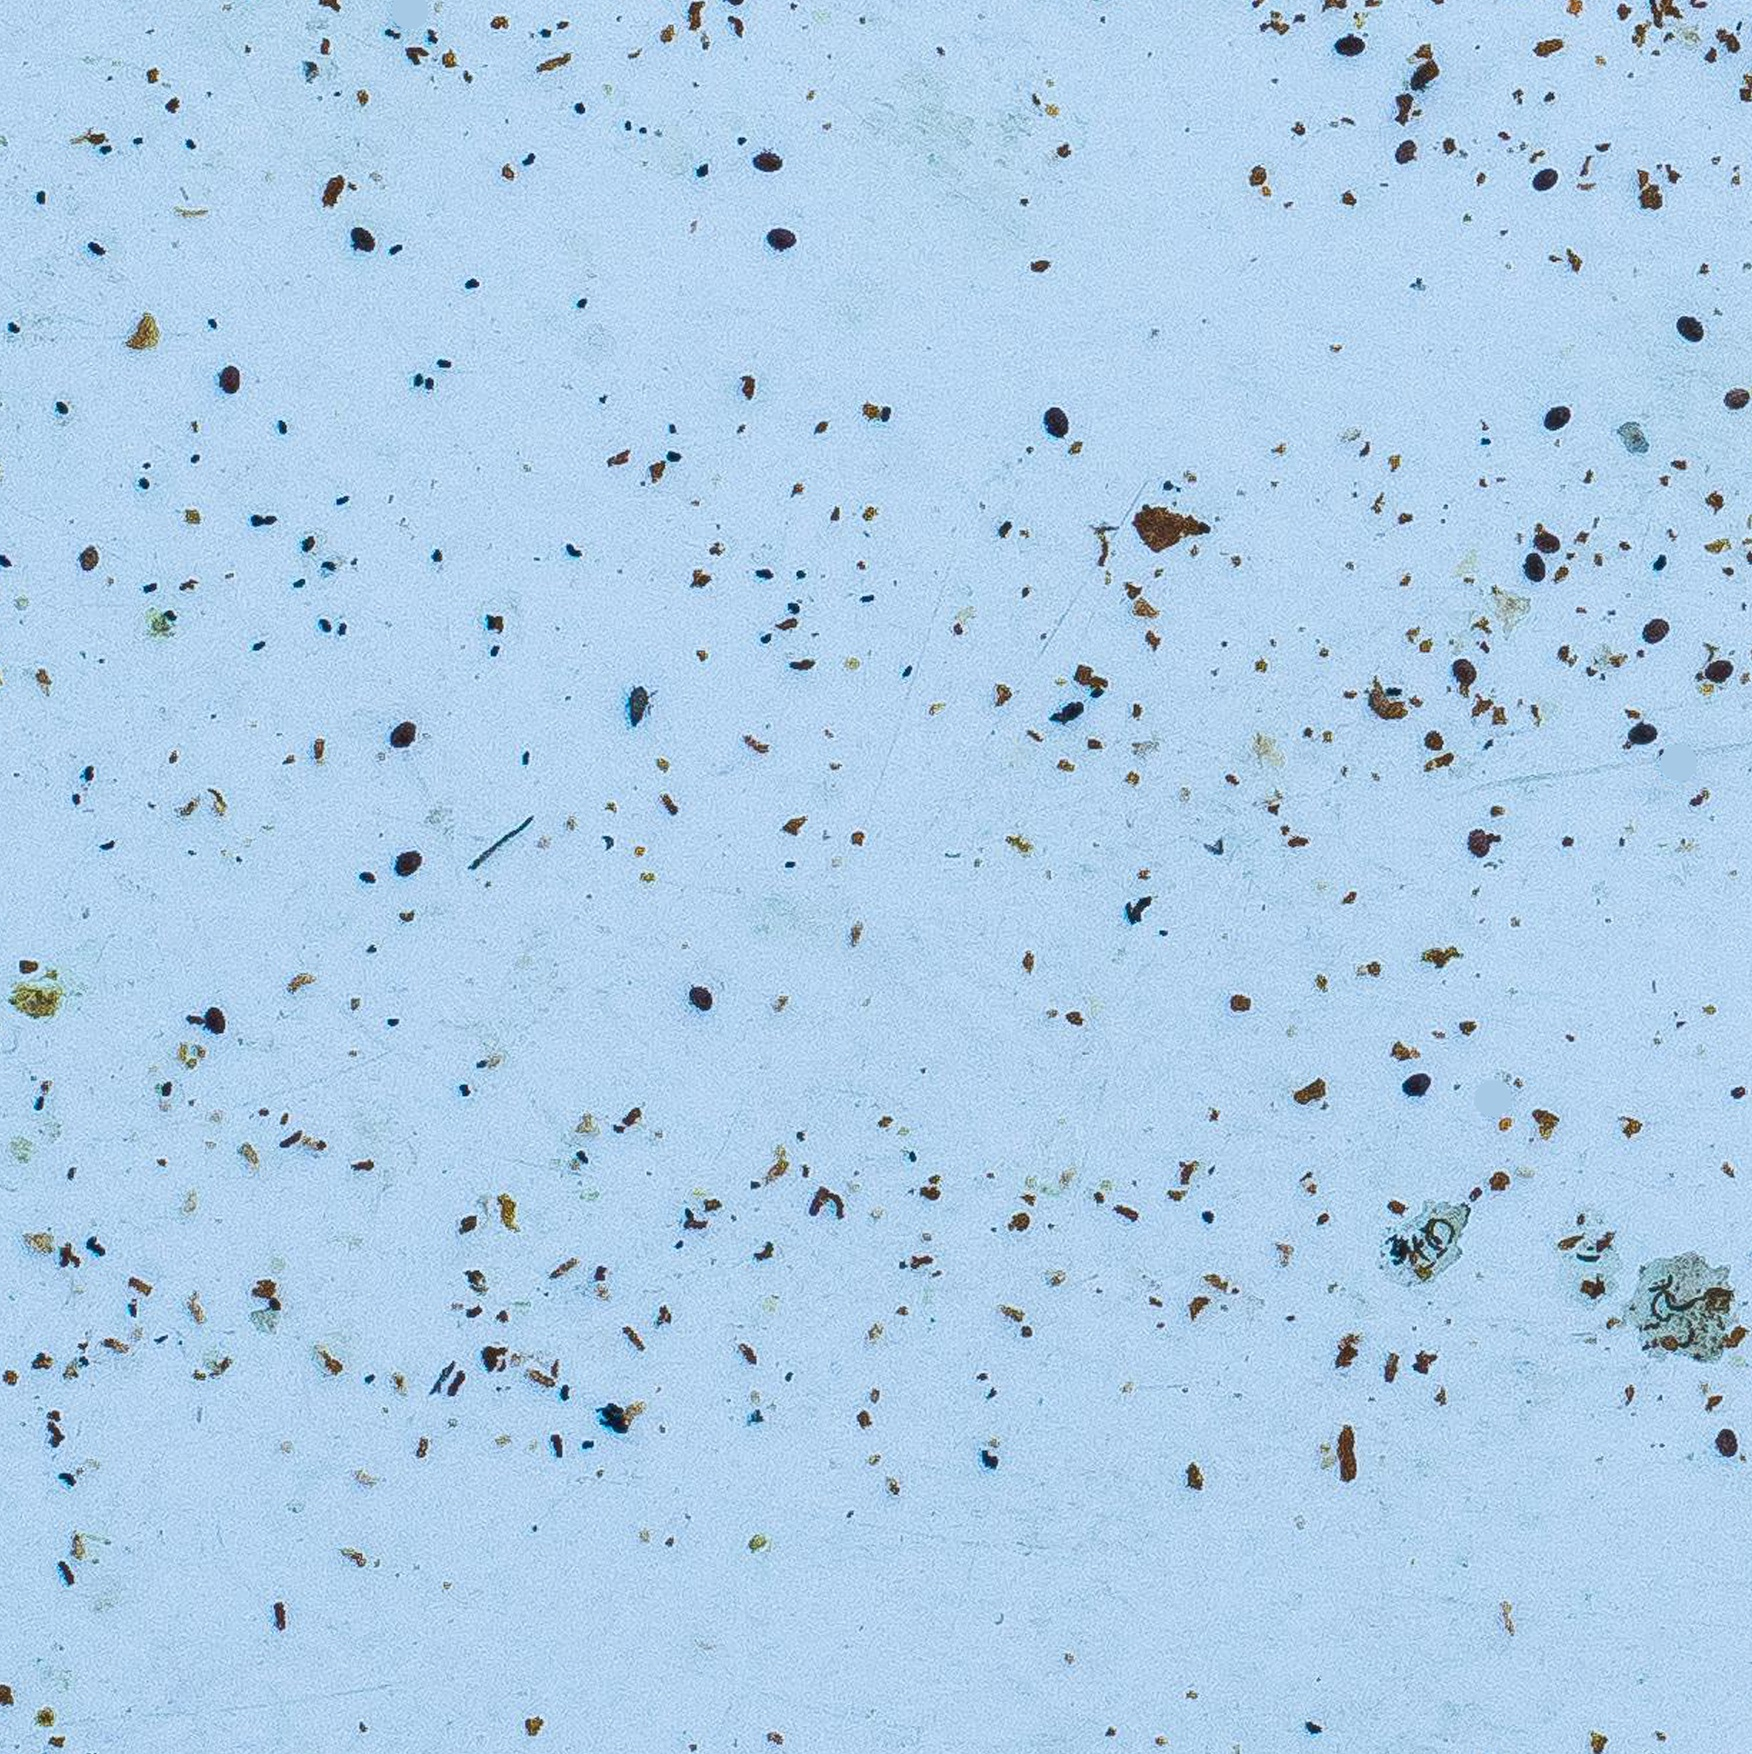Varroa: (1523, 547, 1558, 583), (383, 716, 419, 749), (1041, 406, 1075, 441), (762, 218, 796, 252), (1535, 520, 1569, 554), (752, 148, 785, 181), (388, 847, 422, 879), (1462, 830, 1495, 862), (1673, 313, 1705, 345), (1388, 138, 1418, 168), (687, 984, 717, 1014), (1624, 713, 1653, 745), (350, 220, 379, 250), (212, 366, 241, 396), (71, 542, 101, 571), (1713, 1428, 1742, 1459), (1542, 401, 1571, 430), (202, 1008, 231, 1037), (1336, 30, 1364, 59), (1723, 379, 1750, 408), (1531, 162, 1558, 191), (1401, 1067, 1430, 1094), (1452, 652, 1479, 679), (1705, 655, 1733, 680), (1641, 615, 1665, 637)
